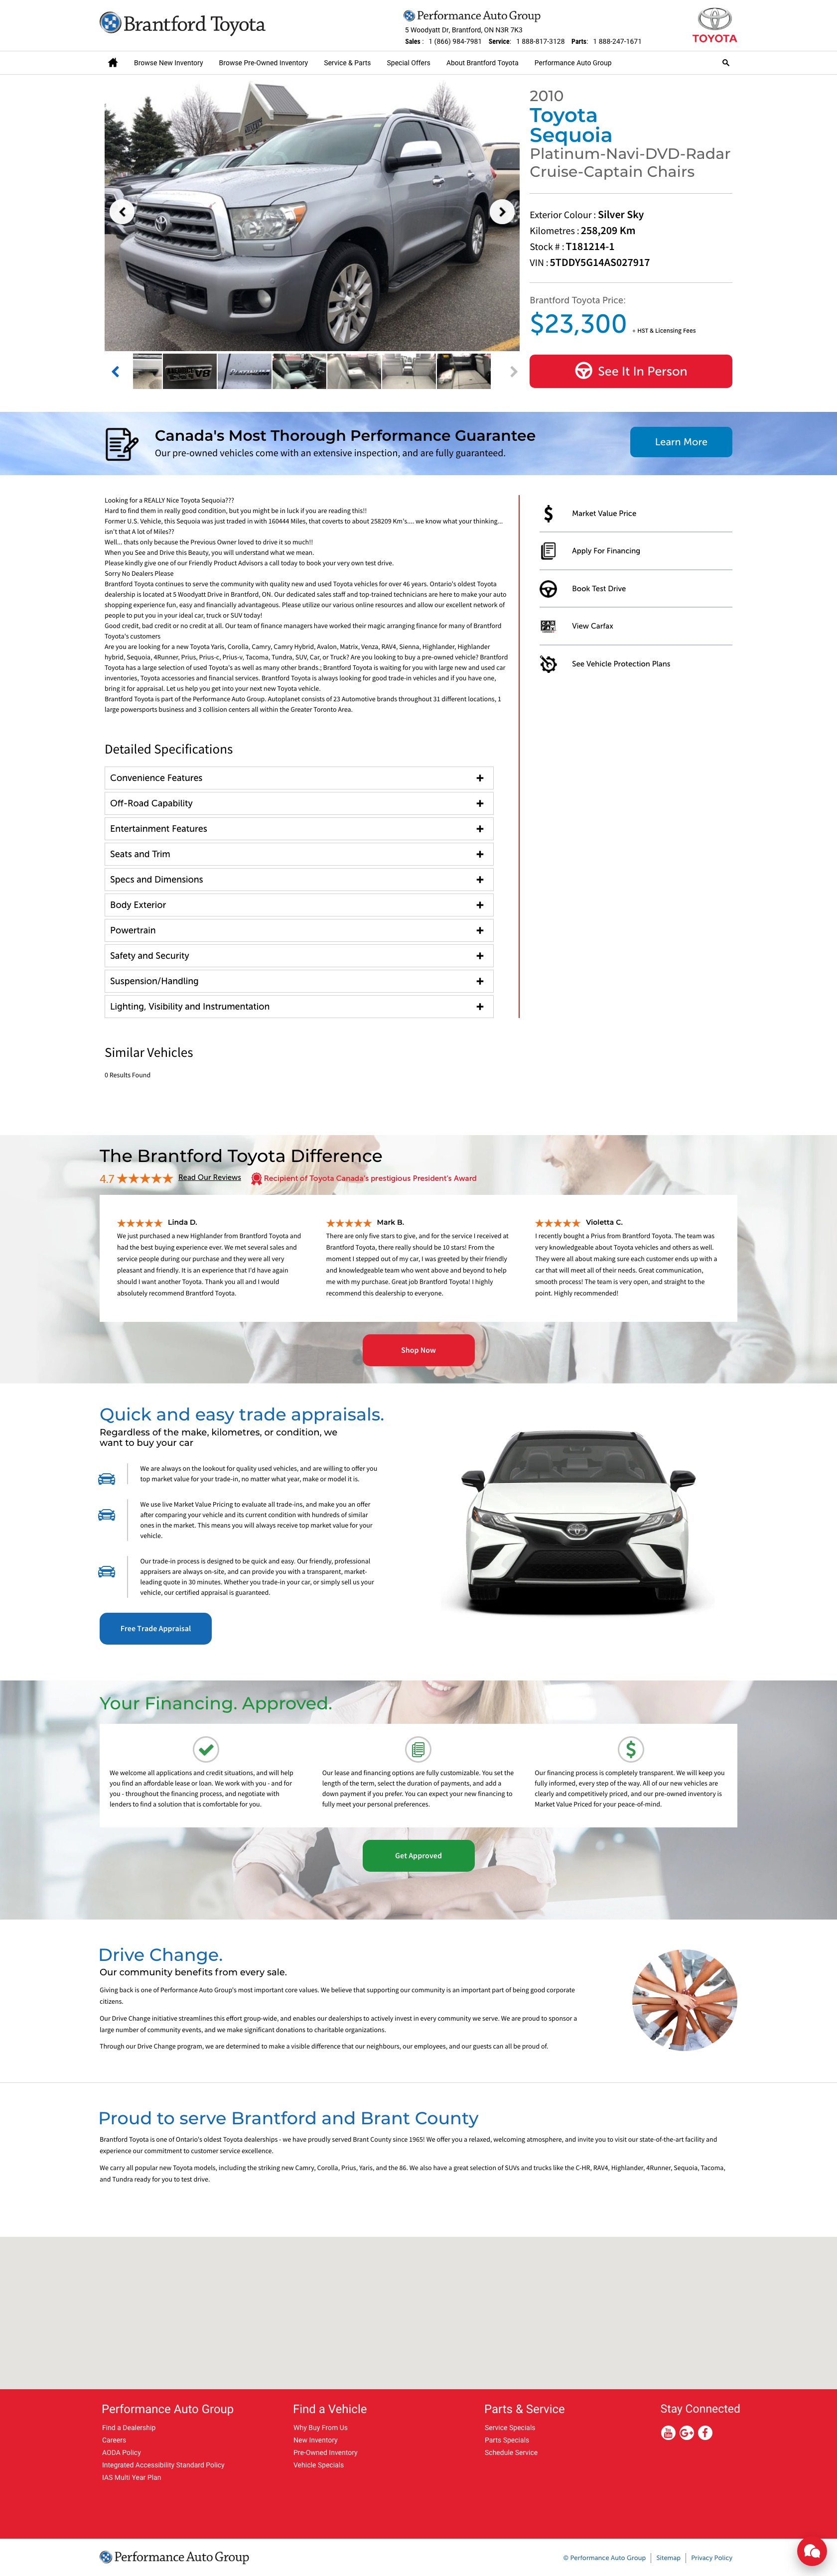car: (510, 366, 518, 378)
